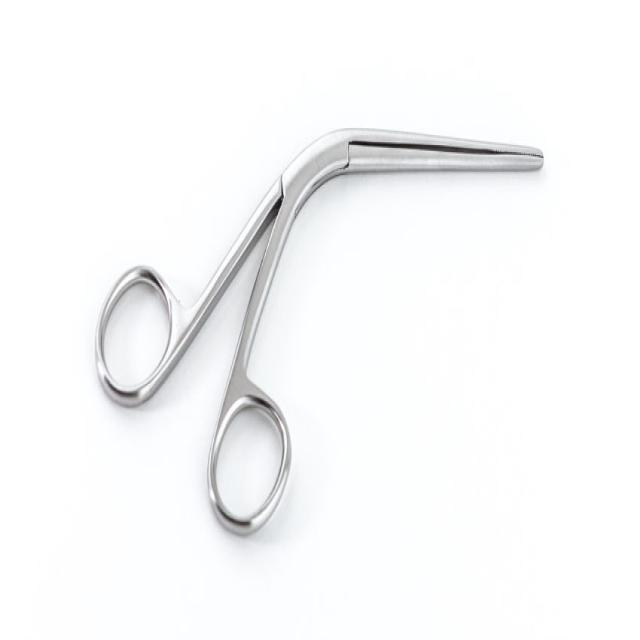B3: (88, 119, 584, 552)
